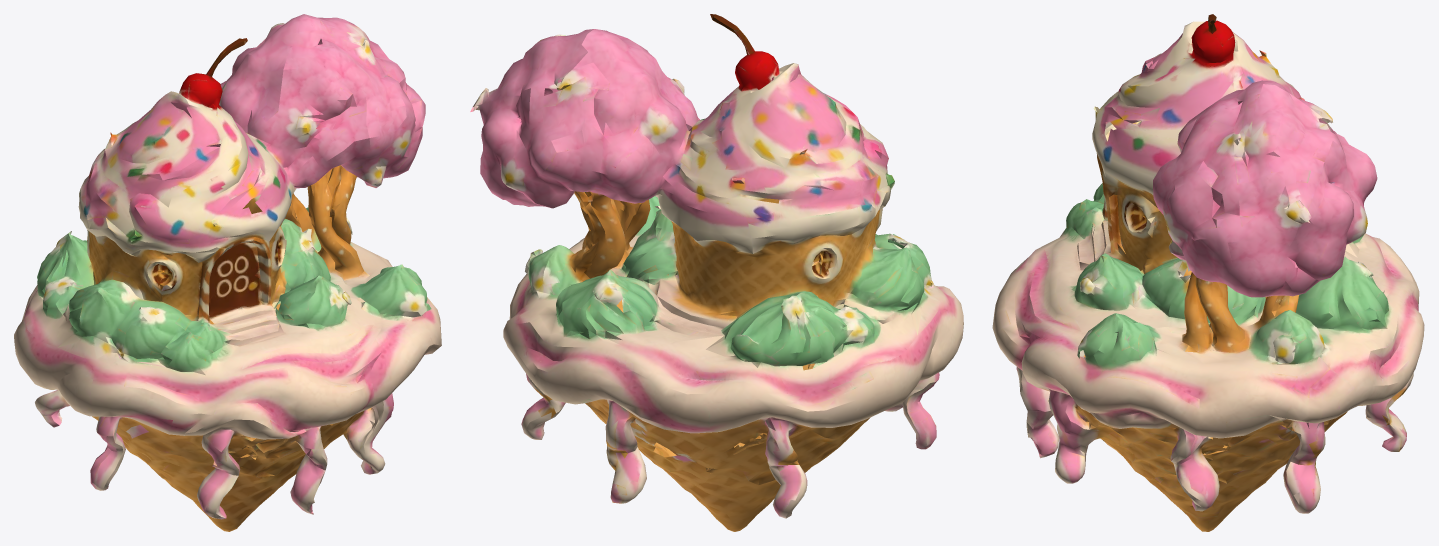
Rendered from sky-island.glb.
The picture shows the model from 3 angles, left to right: view 1: azimuth 30°, elevation 25°; view 2: azimuth 150°, elevation 25°; view 3: azimuth 270°, elevation 25°; orthographic projection. The views are drawn at different scales.
Visible parts, largest first — view 1: Mesh_0; view 2: Mesh_0; view 3: Mesh_0.
Boxes of the visible parts, x1=… form: Mesh_0: x1=14, y1=14, x2=441, y2=531; Mesh_0: x1=470, y1=14, x2=963, y2=531; Mesh_0: x1=992, y1=14, x2=1424, y2=531.
Bounding box in the file's own units: 0.8419 × 1 × 0.7501.
1 material, 1 textured.
